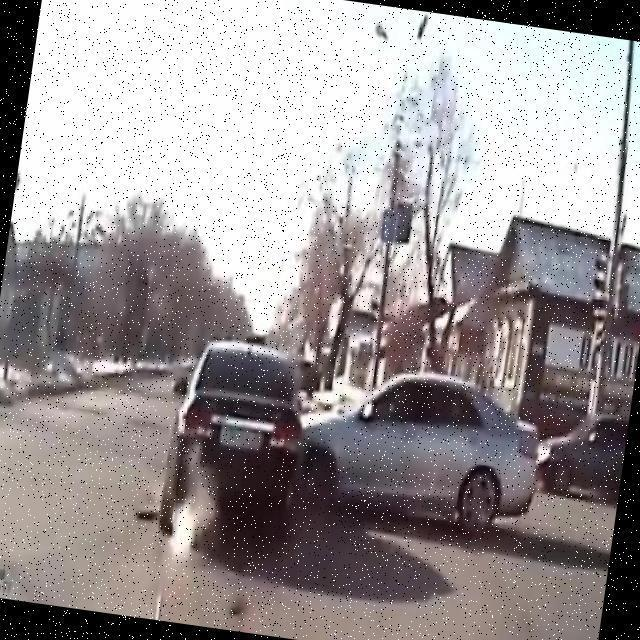accident: (154, 321, 555, 579)
